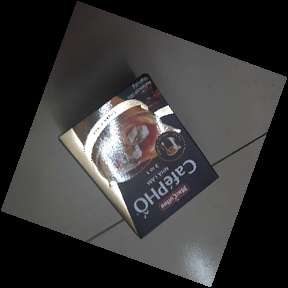CF pho: (56, 72, 220, 238)
